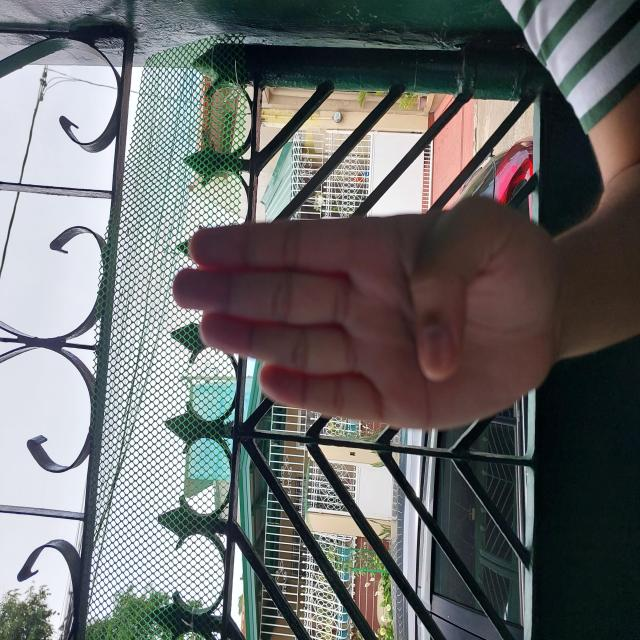B: (207, 169, 448, 564)
